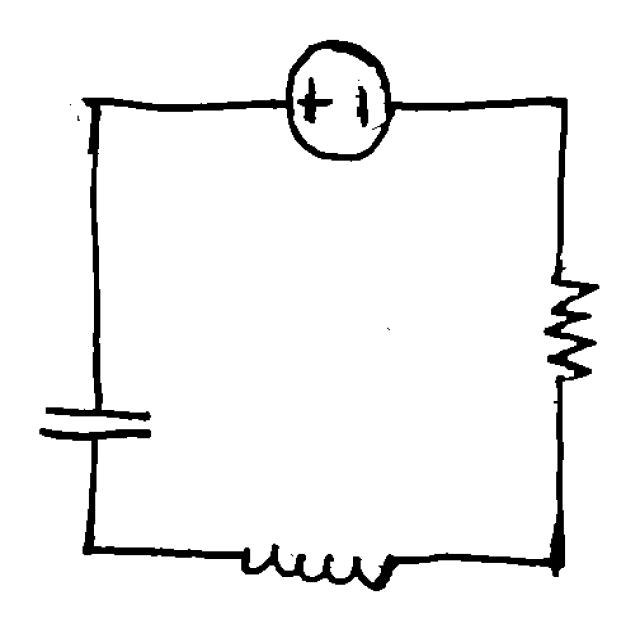capacitor: (28, 400, 171, 452)
dc: (278, 33, 402, 162)
inductor: (221, 521, 407, 603)
resistor: (530, 258, 605, 396)
